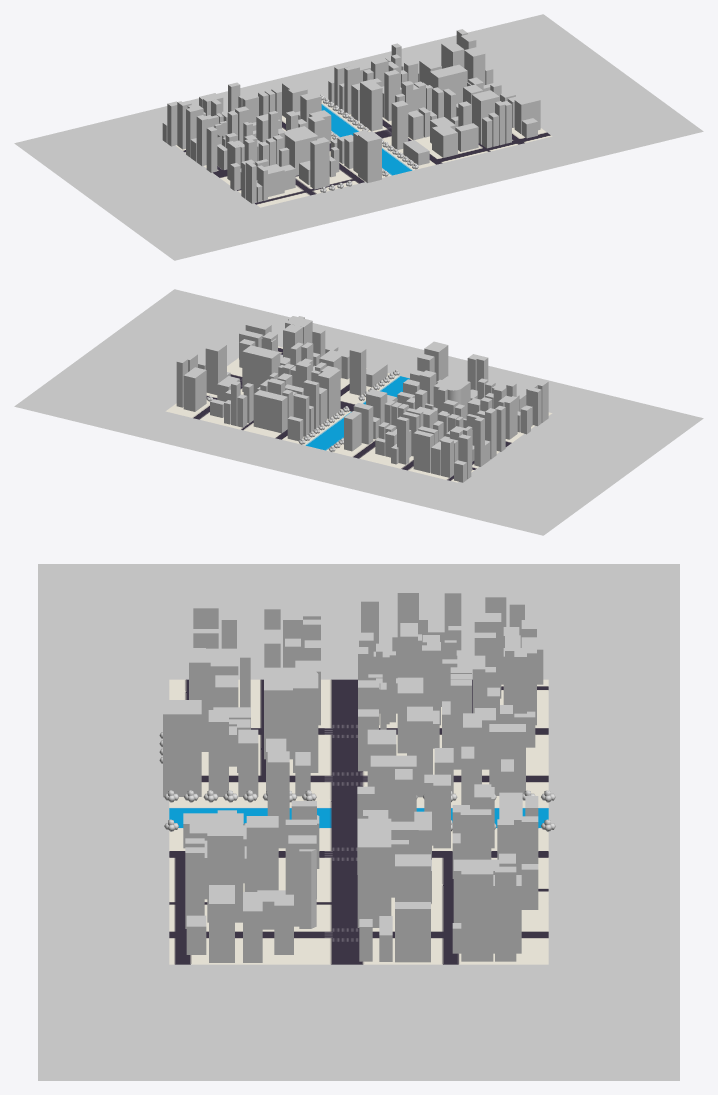
The model's file is godzirra_map_c4d_0003.fbx.
The picture shows the model from 3 angles, top to bottom: view 1: azimuth 30°, elevation 25°; view 2: azimuth 150°, elevation 25°; view 3: azimuth 270°, elevation 25°; orthographic projection. The views are drawn at different scales.
Parts seen in each view (by area): view 1: Extended_BG, BG, BUILDING9, BUILDING154, BUILDING2, BUILDING165, BUILDING160, BUILDING158, BUILDING12, BUILDING19, BUILDING26, BUILDING22 (+14 smaller); view 2: Extended_BG, BG, BUILDING59, BUILDING158, BUILDING22, BUILDING40, BUILDING12, BUILDING2, BUILDING154, BUILDING82, BUILDING147, BUILDING9 (+18 smaller); view 3: Extended_BG, BG, BUILDING9, BUILDING158, BUILDING149, BUILDING19, BUILDING2, BUILDING20, BUILDING57, BUILDING5, BUILDING58, BUILDING147 (+38 smaller).
Boxes of the visible parts, bbox=[...] form: Extended_BG: bbox=[14, 14, 703, 260]; BG: bbox=[175, 100, 552, 207]; BUILDING9: bbox=[358, 131, 381, 182]; BUILDING154: bbox=[360, 79, 382, 131]; BUILDING2: bbox=[284, 126, 318, 175]; BUILDING165: bbox=[310, 137, 329, 189]; BUILDING160: bbox=[430, 117, 457, 157]; BUILDING158: bbox=[430, 64, 467, 103]; BUILDING12: bbox=[391, 100, 408, 149]; BUILDING19: bbox=[472, 90, 499, 144]; BUILDING26: bbox=[514, 95, 540, 134]; BUILDING22: bbox=[464, 47, 485, 85]; Extended_BG: bbox=[14, 289, 703, 535]; BG: bbox=[165, 346, 552, 482]; BUILDING59: bbox=[253, 390, 287, 433]; BUILDING158: bbox=[242, 345, 280, 393]; BUILDING22: bbox=[205, 342, 226, 394]; BUILDING40: bbox=[183, 367, 206, 411]; BUILDING12: bbox=[349, 346, 366, 395]; BUILDING2: bbox=[433, 376, 470, 418]; BUILDING154: bbox=[318, 367, 340, 418]; BUILDING82: bbox=[413, 430, 433, 472]; BUILDING147: bbox=[344, 411, 361, 451]; BUILDING9: bbox=[424, 341, 448, 381]; Extended_BG: bbox=[38, 564, 679, 1080]; BG: bbox=[169, 679, 548, 964]; BUILDING9: bbox=[163, 700, 201, 797]; BUILDING158: bbox=[357, 818, 391, 927]; BUILDING149: bbox=[461, 867, 493, 961]; BUILDING19: bbox=[207, 817, 243, 922]; BUILDING2: bbox=[264, 667, 318, 759]; BUILDING20: bbox=[246, 816, 278, 891]; BUILDING57: bbox=[395, 902, 430, 962]; BUILDING5: bbox=[293, 678, 318, 772]; BUILDING58: bbox=[495, 866, 516, 961]; BUILDING147: bbox=[489, 724, 525, 795].
Bounding box in the file's own units: 3479 × 315 × 1827.
1 material, 1 textured.
